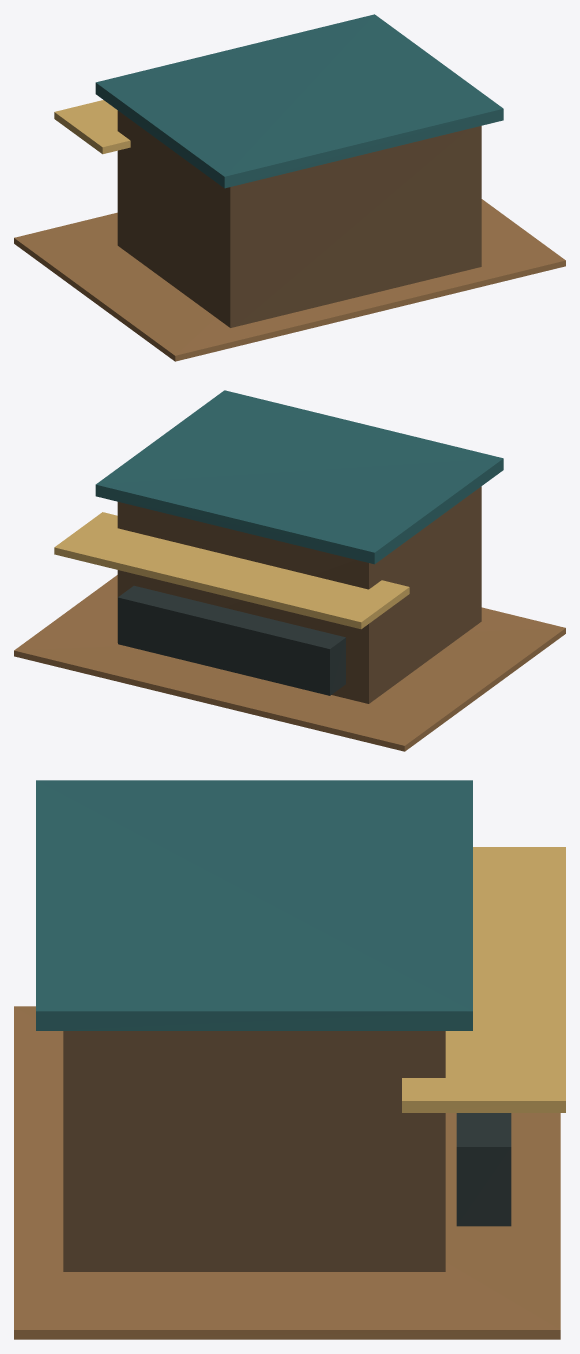
The model's file is Caravan-trading-post.glb.
3 views of the same model, one above another, from view 1: azimuth 30°, elevation 25°; view 2: azimuth 150°, elevation 25°; view 3: azimuth 270°, elevation 25° (orthographic). The views are drawn at different scales.
Visible parts, largest first — view 1: caravan-trading-post-static-caravan-timber, caravan-trading-post-static-caravan-teal, caravan-trading-post-static-caravan-earth, caravan-trading-post-static-caravan-awning; view 2: caravan-trading-post-static-caravan-teal, caravan-trading-post-static-caravan-earth, caravan-trading-post-static-caravan-timber, caravan-trading-post-static-caravan-metal, caravan-trading-post-static-caravan-awning; view 3: caravan-trading-post-static-caravan-teal, caravan-trading-post-static-caravan-timber, caravan-trading-post-static-caravan-earth, caravan-trading-post-static-caravan-awning, caravan-trading-post-static-caravan-metal.
Boxes of the visible parts, x1=… form: caravan-trading-post-static-caravan-timber: x1=117, y1=110, x2=481, y2=327; caravan-trading-post-static-caravan-teal: x1=95, y1=14, x2=503, y2=188; caravan-trading-post-static-caravan-earth: x1=14, y1=199, x2=565, y2=361; caravan-trading-post-static-caravan-awning: x1=54, y1=100, x2=130, y2=154; caravan-trading-post-static-caravan-teal: x1=95, y1=390, x2=503, y2=564; caravan-trading-post-static-caravan-earth: x1=14, y1=575, x2=565, y2=751; caravan-trading-post-static-caravan-timber: x1=117, y1=486, x2=481, y2=703; caravan-trading-post-static-caravan-metal: x1=118, y1=585, x2=345, y2=695; caravan-trading-post-static-caravan-awning: x1=54, y1=512, x2=409, y2=629; caravan-trading-post-static-caravan-teal: x1=36, y1=780, x2=472, y2=1030; caravan-trading-post-static-caravan-timber: x1=63, y1=1031, x2=445, y2=1271; caravan-trading-post-static-caravan-earth: x1=14, y1=1006, x2=560, y2=1339; caravan-trading-post-static-caravan-awning: x1=402, y1=847, x2=565, y2=1112; caravan-trading-post-static-caravan-metal: x1=456, y1=1113, x2=511, y2=1226.
Size of the model in its own units: 7 by 2.85 by 5.05.
